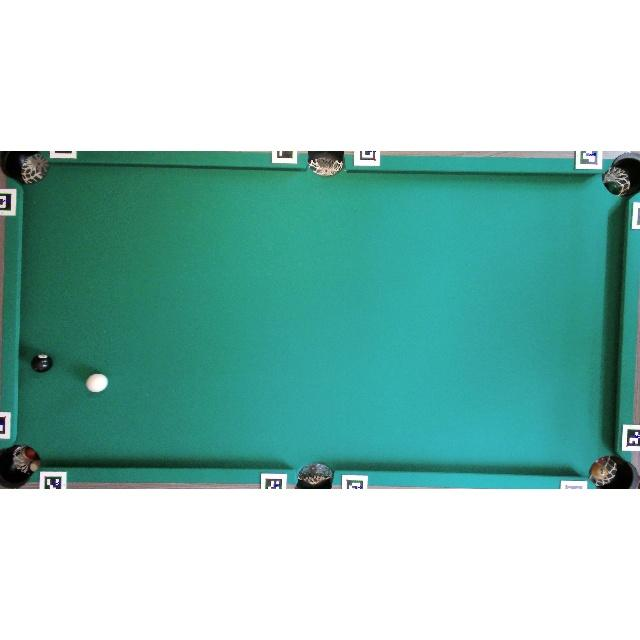cue ball: (85, 372, 108, 394)
other: (30, 352, 52, 373)
